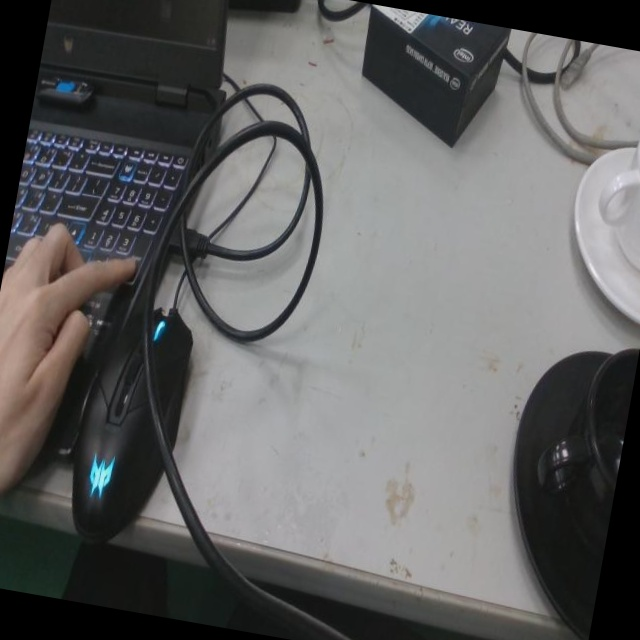black: (506, 332, 614, 640)
white: (571, 103, 640, 325)
